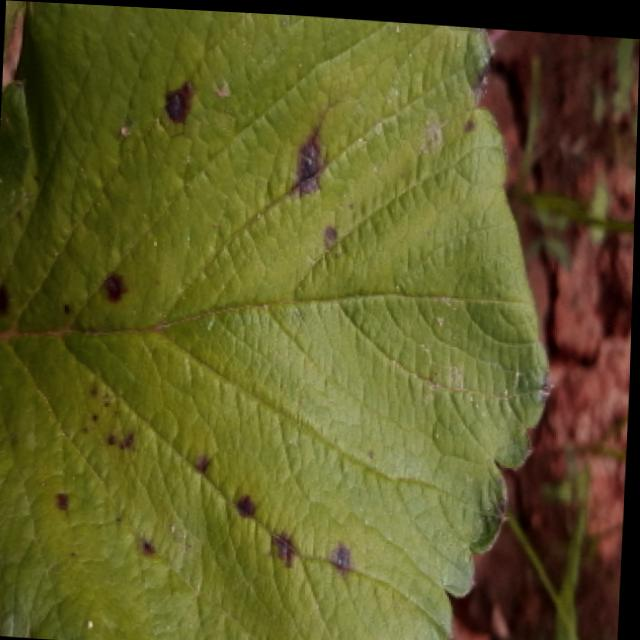Leaf Spot: (0, 1, 554, 640)
